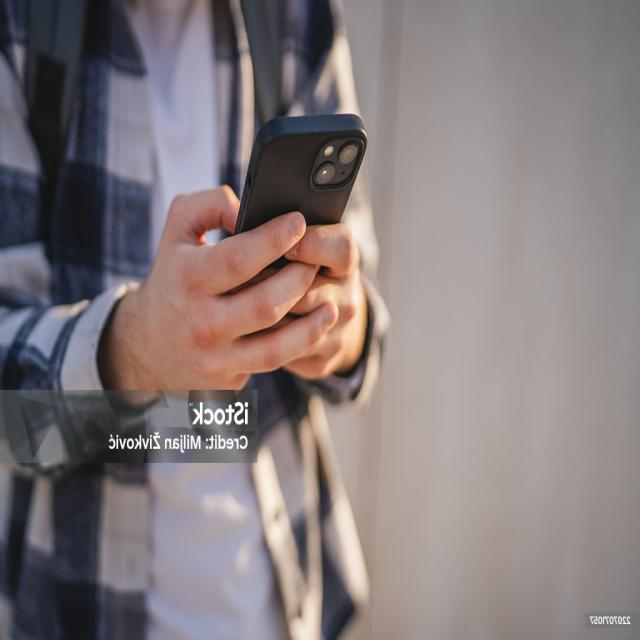Mobile: (208, 66, 376, 378)
